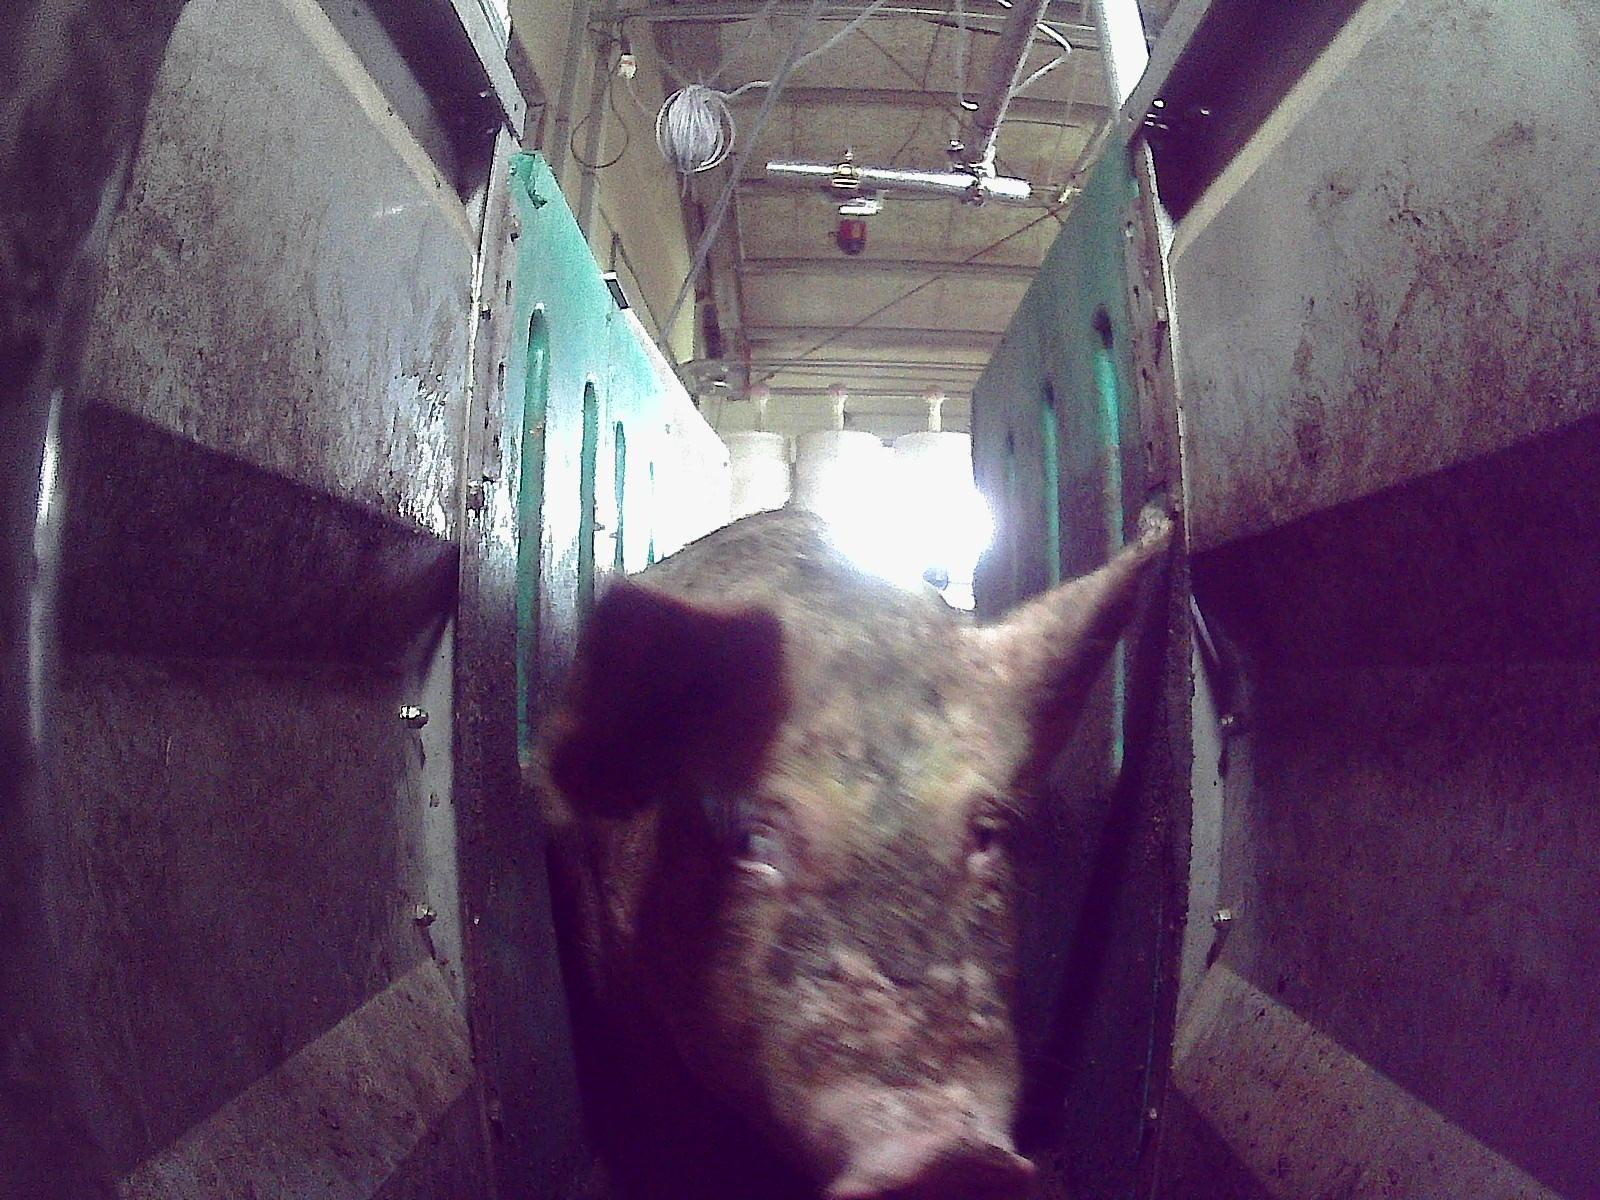Face: (636, 577, 1062, 1199)
